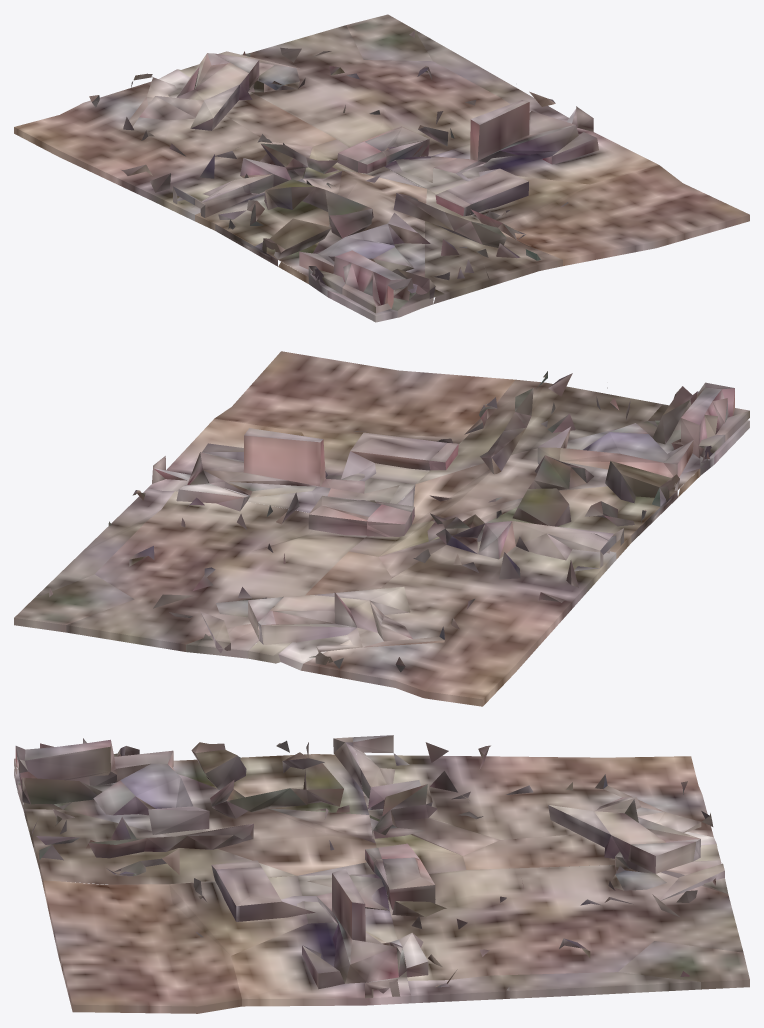
The picture shows the model from 3 angles, top to bottom: view 1: azimuth 30°, elevation 25°; view 2: azimuth 150°, elevation 25°; view 3: azimuth 270°, elevation 25°; orthographic projection. The views are drawn at different scales.
Parts seen in each view (by area): view 1: Mesh_0; view 2: Mesh_0; view 3: Mesh_0.
Part boxes in pixels (<box>): Mesh_0: <box>14,14,749,322</box>; Mesh_0: <box>14,351,749,706</box>; Mesh_0: <box>14,735,749,1013</box>.
Bounding box in the file's own units: 532 × 64.49 × 659.
1 material, 1 textured.
